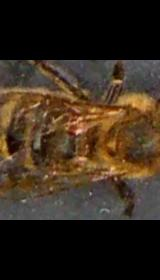varroa_mite: (59, 105, 86, 138)
